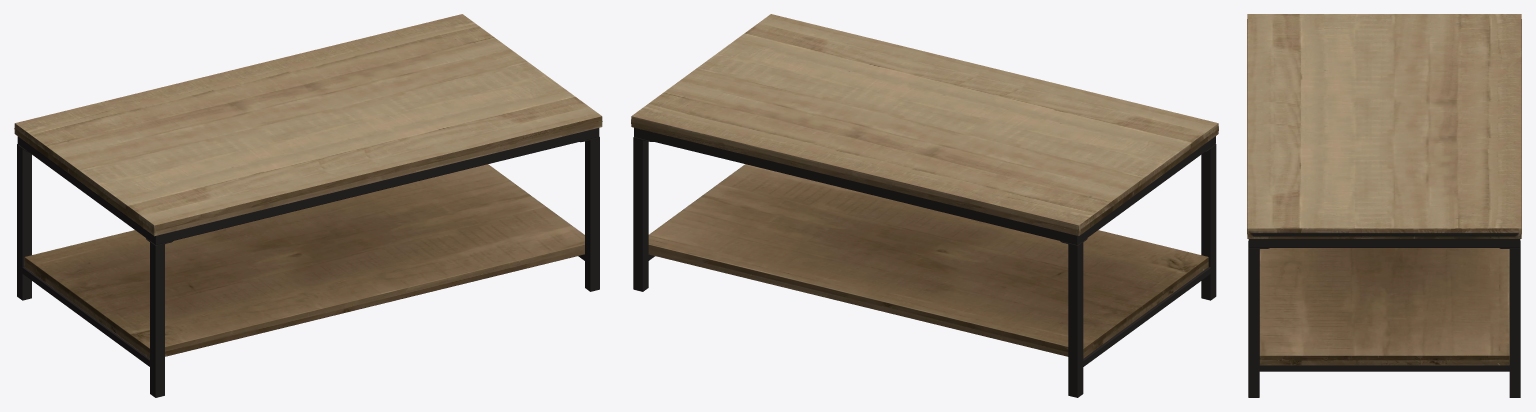
The model's file is abo-B07DBFFFYZ.glb.
The picture shows the model from 3 angles, left to right: view 1: azimuth 30°, elevation 25°; view 2: azimuth 150°, elevation 25°; view 3: azimuth 270°, elevation 25°; orthographic projection.
Size of the model in its own units: 1.06 by 0.393 by 0.574.
Materials: 1 (1 with a texture image).
